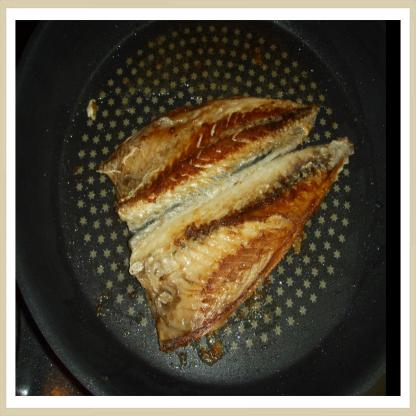Peixe: (89, 75, 357, 334)
